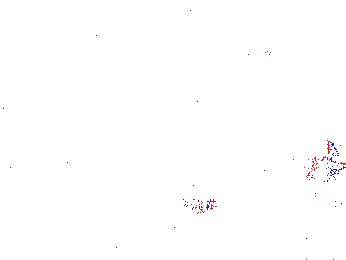flame jellyfish: (158, 159, 231, 231), (65, 155, 147, 211), (297, 139, 346, 222)
